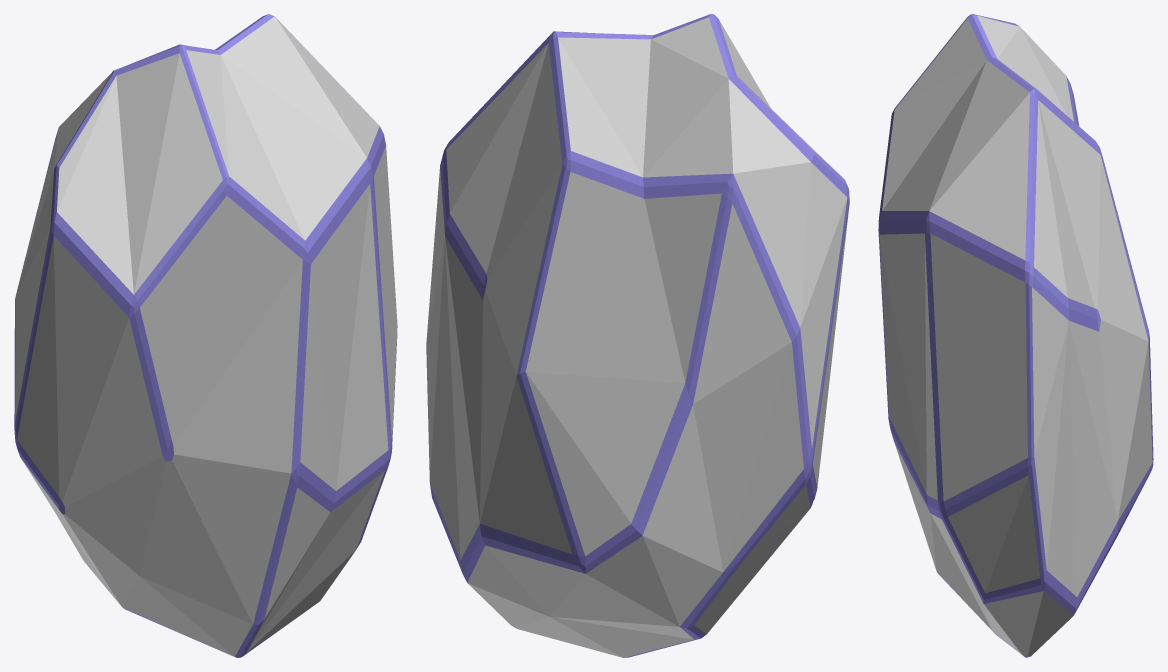
The model's file is stone_003.fbx.
The picture shows the model from 3 angles, left to right: view 1: azimuth 30°, elevation 25°; view 2: azimuth 150°, elevation 25°; view 3: azimuth 270°, elevation 25°; orthographic projection. The views are drawn at different scales.
Parts seen in each view (by area): view 1: stone; view 2: stone; view 3: stone.
Part boxes in pixels (x1,y1,x2,y2): stone: [14, 14, 397, 657]; stone: [426, 14, 849, 657]; stone: [878, 14, 1153, 657].
Bounding box in the file's own units: 396 × 636 × 270.
